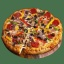olives: (49, 31, 56, 39), (38, 28, 47, 33), (28, 32, 34, 39), (11, 34, 18, 39), (6, 31, 12, 36), (33, 21, 40, 25)
pepperoni: (29, 40, 43, 50), (13, 12, 25, 19), (51, 18, 59, 28), (30, 7, 38, 17), (5, 24, 14, 30), (44, 12, 50, 19)
pizza: (2, 8, 62, 53)
